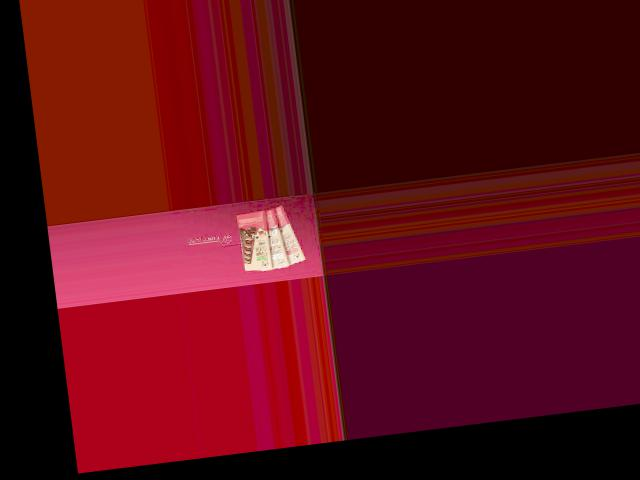chocolate: (267, 200, 306, 270)
